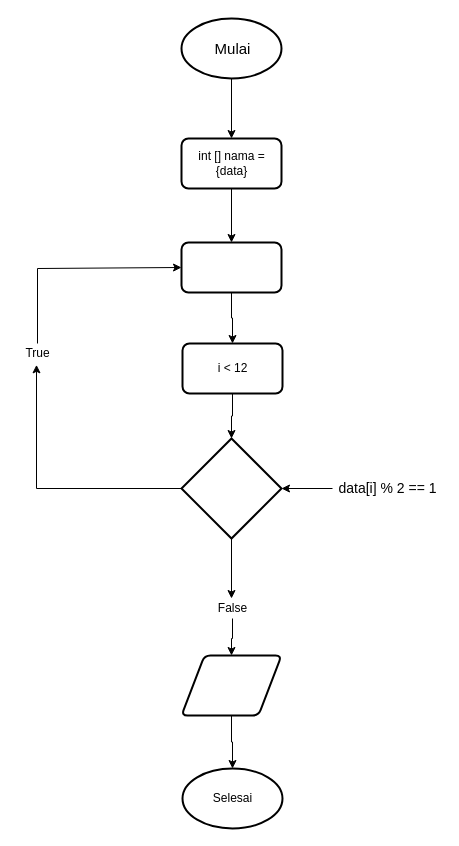
Some shapes in this 459 by 846 pixel diagram are drawn without their labels. Here are the shapes that lost their labels. From the top down, the box of each, then its label:
(180, 241, 282, 293): i = 0
(180, 654, 282, 716): Print data[i]
